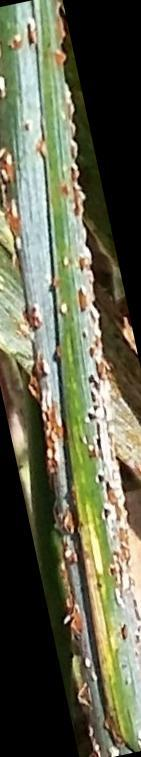Wheat: (40, 424, 139, 678)
